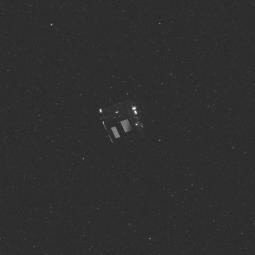proba_3_ocs: (90, 98, 150, 146)
